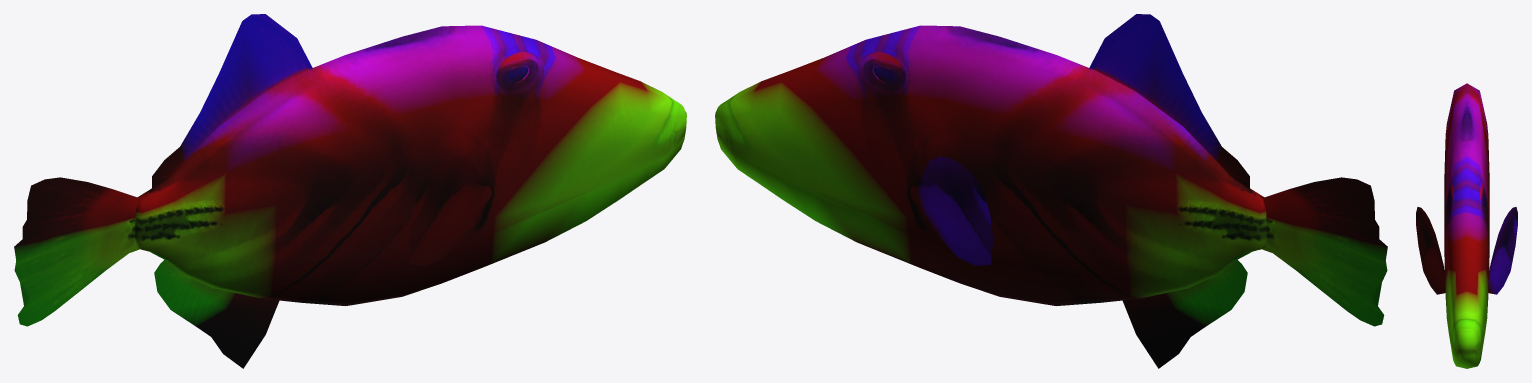
The model's file is picasso_triggerfish.glb.
3 views of the same model, side by side, from view 1: azimuth 30°, elevation 25°; view 2: azimuth 150°, elevation 25°; view 3: azimuth 270°, elevation 25° (orthographic). The views are drawn at different scales.
Visible parts, largest first — view 1: PicassoTriggerfish; view 2: PicassoTriggerfish; view 3: PicassoTriggerfish.
Boxes of the visible parts, x1,y1,x2,y2 form: PicassoTriggerfish: (14, 14, 686, 368); PicassoTriggerfish: (715, 14, 1387, 368); PicassoTriggerfish: (1416, 83, 1517, 368).
Size of the model in its own units: 1 by 0.5009 by 0.1666.
Materials: 1 (1 with a texture image).
